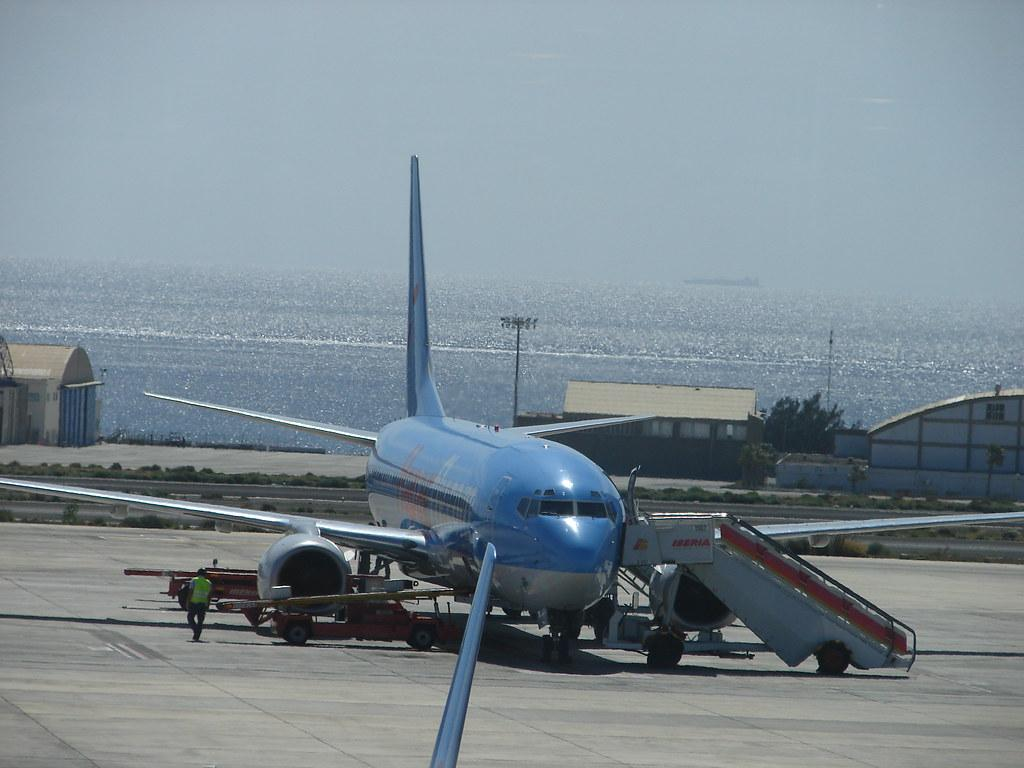plane: (2, 153, 1023, 765)
